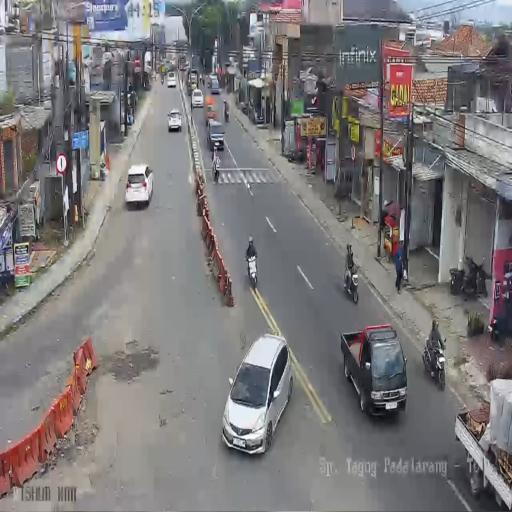car: (219, 332, 291, 455), (339, 323, 406, 418), (125, 163, 154, 207), (206, 117, 224, 149), (167, 108, 182, 132), (191, 88, 203, 108), (210, 76, 220, 94), (167, 71, 176, 88), (185, 60, 190, 72)
motorcycle: (423, 332, 447, 391), (490, 290, 512, 342), (344, 258, 359, 304), (246, 252, 259, 289), (224, 105, 229, 122), (199, 74, 203, 87), (161, 73, 164, 85)
truck: (189, 70, 198, 90), (144, 51, 151, 73), (179, 56, 186, 71)
